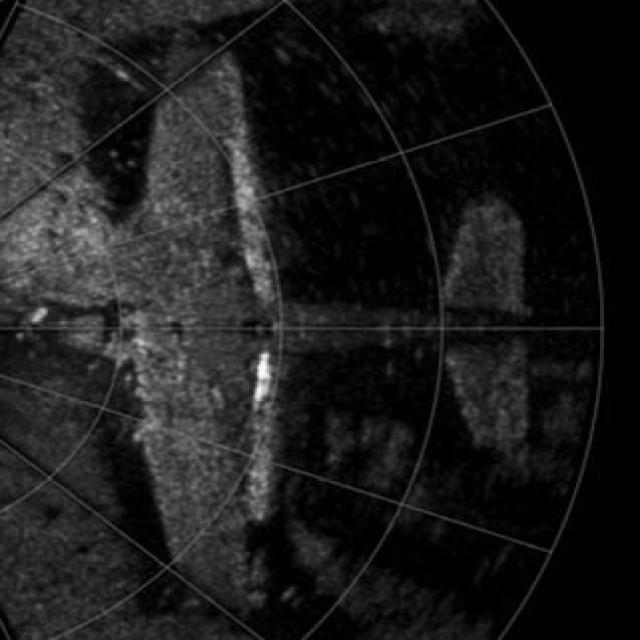plane: (32, 34, 568, 544)
